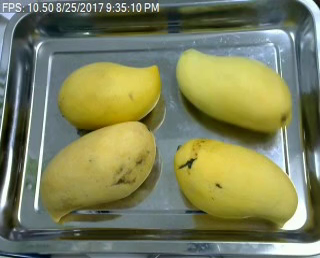Mango: (167, 129, 313, 229), (32, 117, 160, 228), (173, 39, 299, 140), (54, 57, 167, 127)
